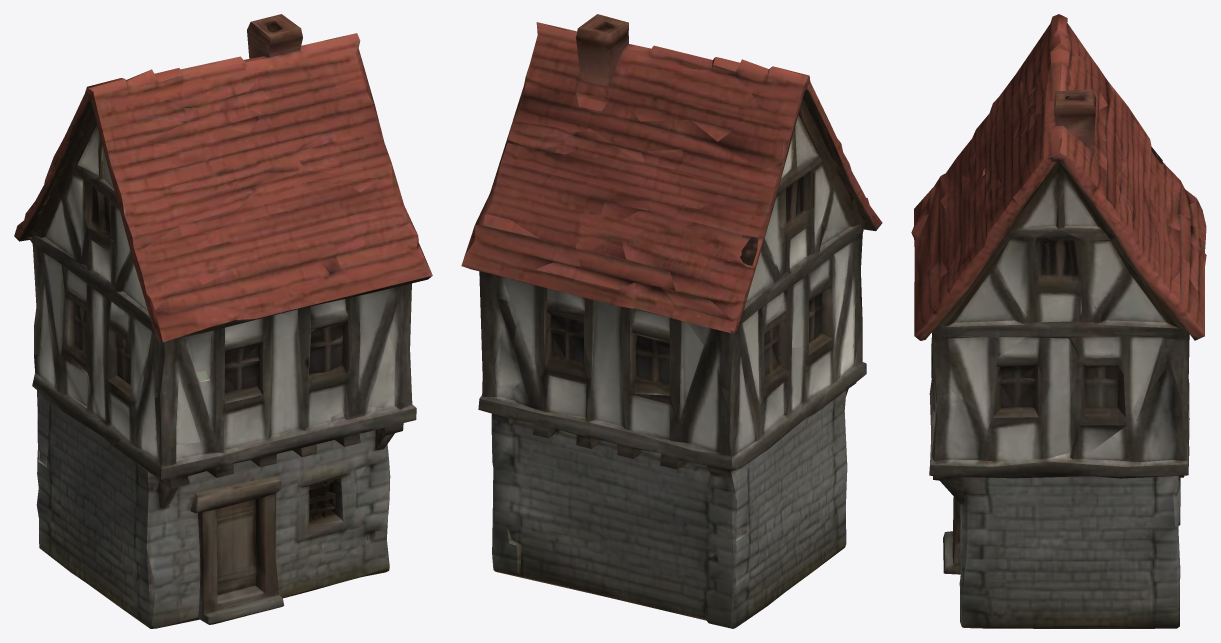
The model's file is townhouse.glb.
The picture shows the model from 3 angles, left to right: view 1: azimuth 30°, elevation 25°; view 2: azimuth 150°, elevation 25°; view 3: azimuth 270°, elevation 25°; orthographic projection. The views are drawn at different scales.
Parts seen in each view (by area): view 1: geometry_0; view 2: geometry_0; view 3: geometry_0.
Boxes of the visible parts, left/top/right/bottom form: geometry_0: left=14, top=14, right=432, bottom=628; geometry_0: left=461, top=14, right=882, bottom=628; geometry_0: left=911, top=14, right=1206, bottom=628.
Bounding box in the file's own units: 0.98 × 1.8 × 0.9513.
1 material, 1 textured.
